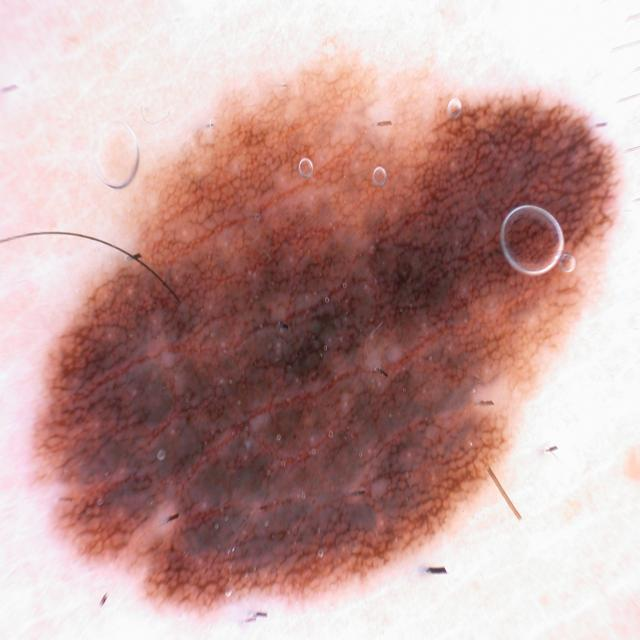Benign: (28, 49, 616, 613)
